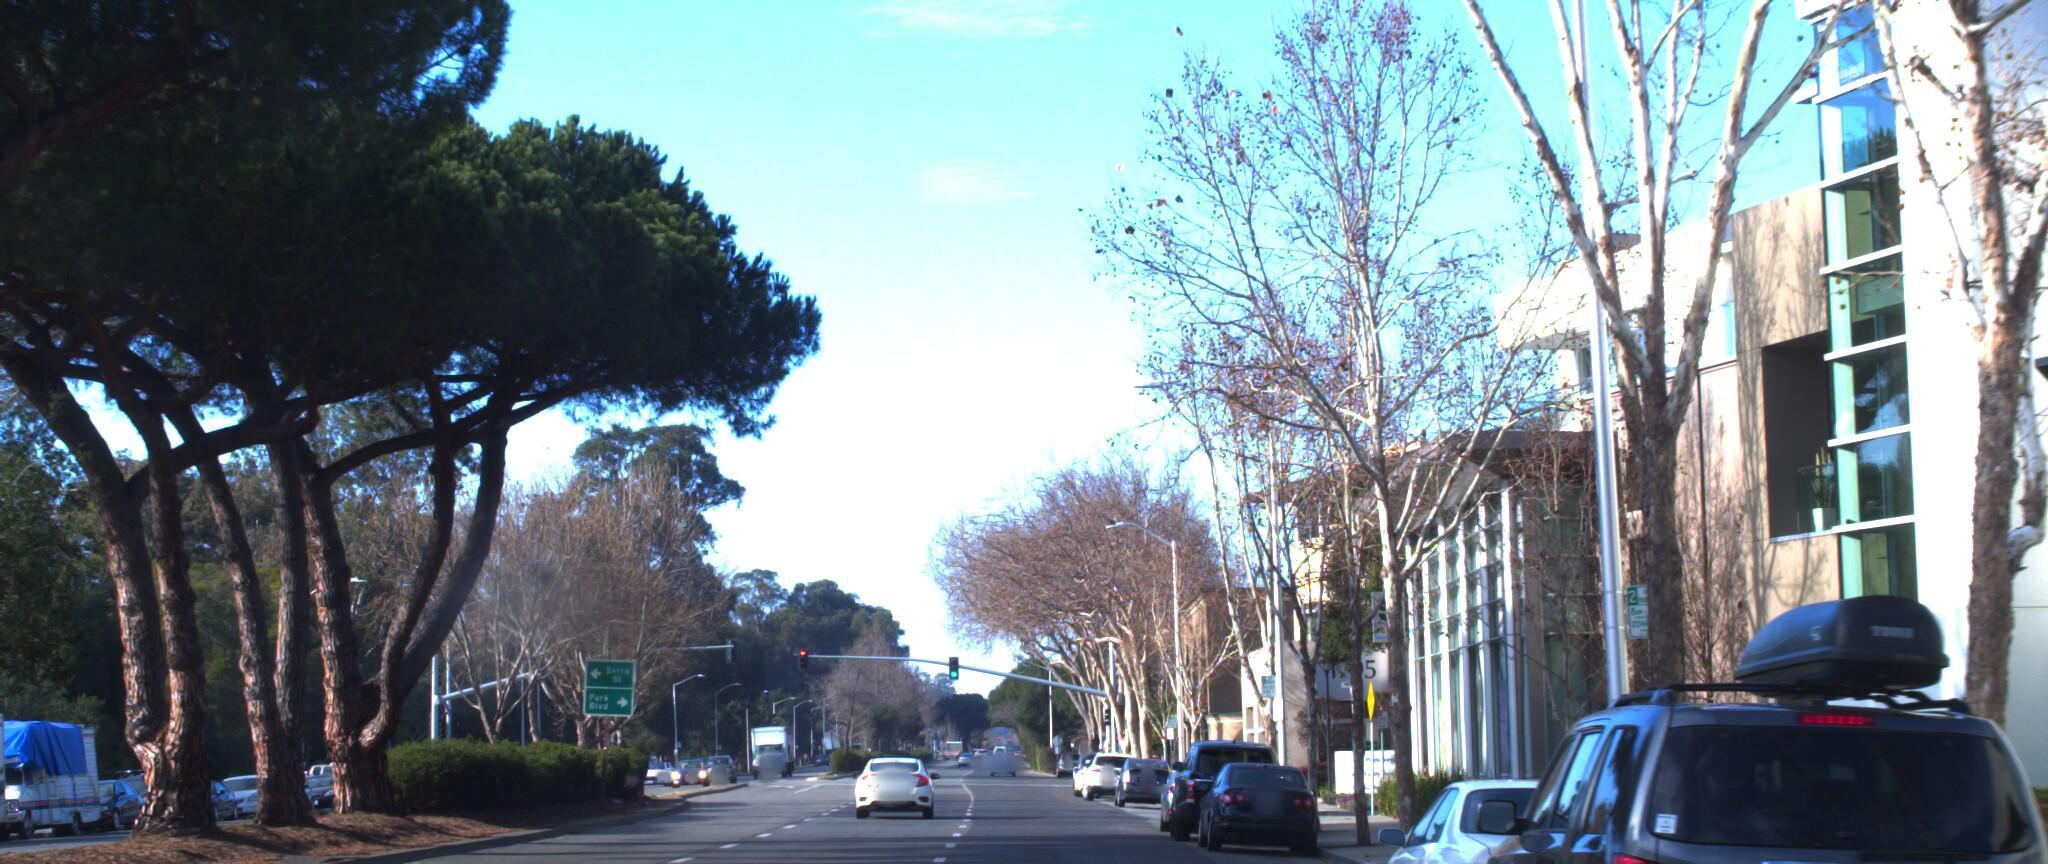car: (1422, 573, 2048, 864), (1357, 757, 1725, 864), (1179, 750, 1314, 854), (1151, 741, 1270, 841), (850, 740, 946, 809)
other_vehicle: (0, 714, 119, 847), (0, 687, 31, 864)
